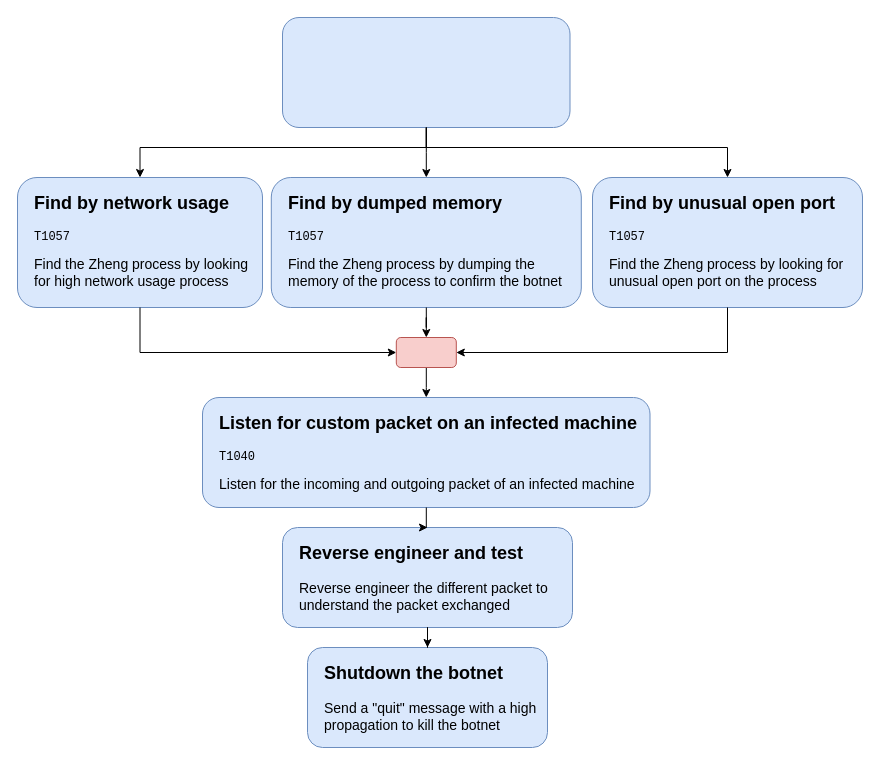
This 880x768 diagram has some shape labels left out. The shapes that lost their labels are listed below. From the top down, each one's centre as x and y in pixels, then its label:
At [426,72]: "Enumerate process T1057 Enumerate the process to find the botnet".
At [425,352]: "OR".
